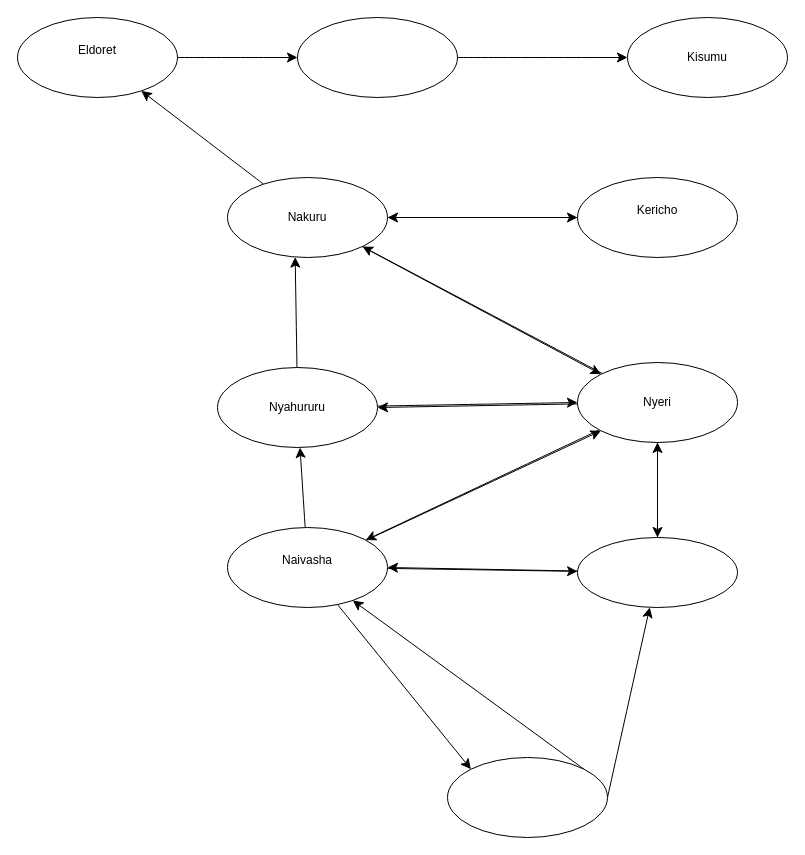
This 805x855 diagram has some shape labels left out. The shapes that lost their labels are listed below. From the top down, each one's box as (x1, y1, x2, y2) in pixels, then its label:
(296, 16, 458, 98): Kakamega
(576, 536, 738, 608): Thika
(446, 756, 608, 838): Nairobi
